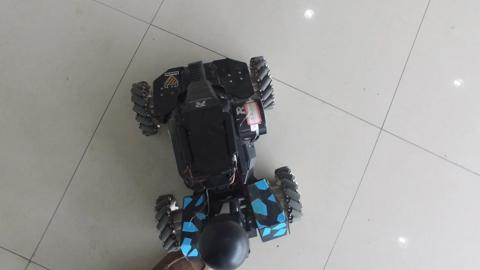chariot: (101, 40, 307, 261)
